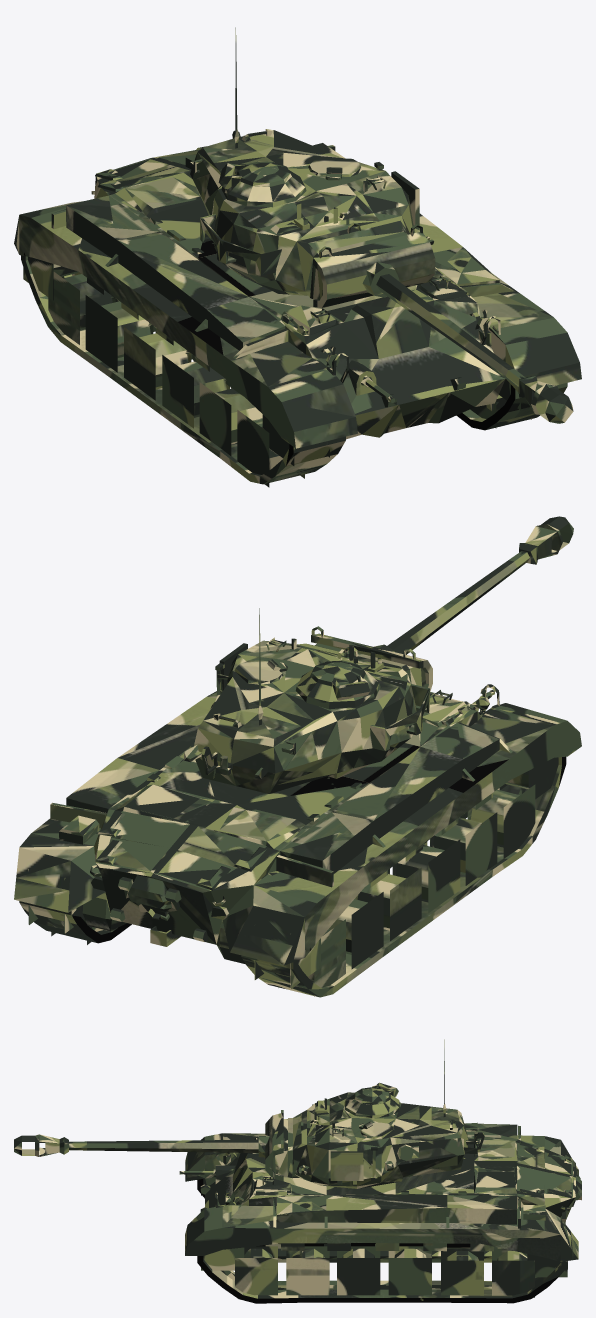
File: tank.gltf
3 views of the same model, one above another, from view 1: azimuth 30°, elevation 25°; view 2: azimuth 150°, elevation 25°; view 3: azimuth 270°, elevation 25° (orthographic). The views are drawn at different scales.
Parts seen in each view (by area): view 1: Model001_6_texalm26pershingdif_0.1_0_0, Model001_6_m26pershingtracksdif_0.1_0_0; view 2: Model001_6_texalm26pershingdif_0.1_0_0, Model001_6_m26pershingtracksdif_0.1_0_0; view 3: Model001_6_texalm26pershingdif_0.1_0_0, Model001_6_m26pershingtracksdif_0.1_0_0.
Part boxes in pixels (bbox=[...]): Model001_6_texalm26pershingdif_0.1_0_0: bbox=[14, 27, 581, 487]; Model001_6_m26pershingtracksdif_0.1_0_0: bbox=[21, 255, 567, 484]; Model001_6_texalm26pershingdif_0.1_0_0: bbox=[14, 516, 581, 996]; Model001_6_m26pershingtracksdif_0.1_0_0: bbox=[19, 756, 566, 997]; Model001_6_texalm26pershingdif_0.1_0_0: bbox=[14, 1039, 581, 1297]; Model001_6_m26pershingtracksdif_0.1_0_0: bbox=[197, 1179, 567, 1303].
Bounding box in the file's own units: 4.85 × 5.44 × 12.29.
2 materials, 2 textured.
